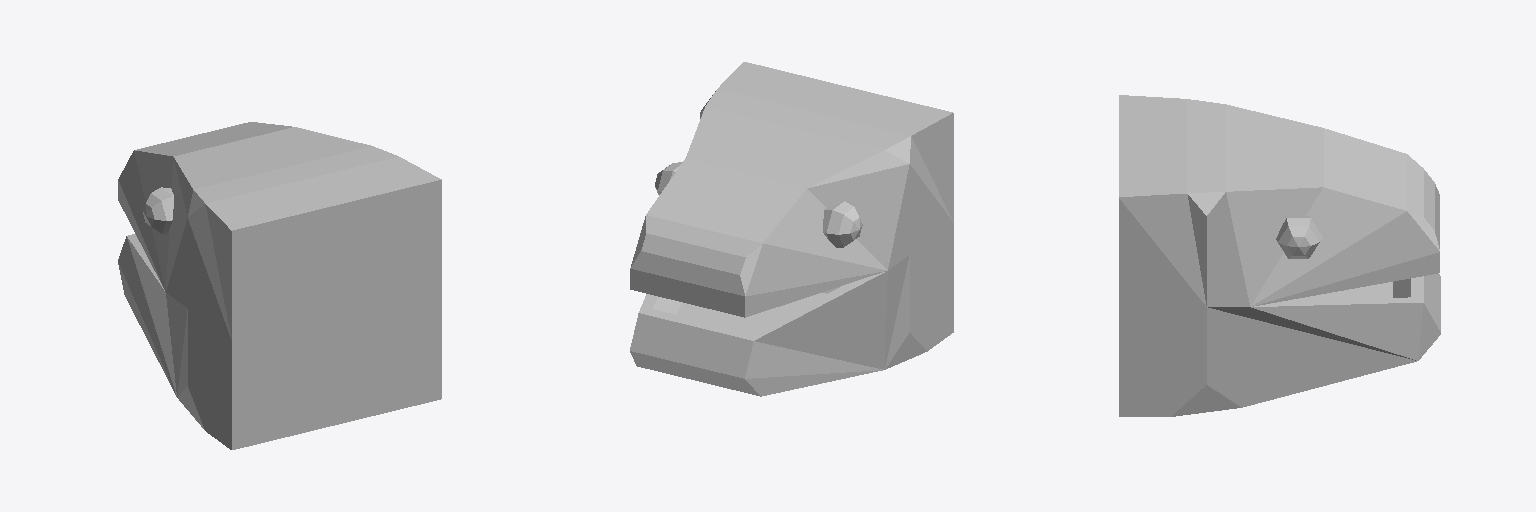
Rendered from snakehead.obj.
3 renders of one model, left to right at view 1: azimuth 30°, elevation 25°; view 2: azimuth 150°, elevation 25°; view 3: azimuth 270°, elevation 25°, orthographic.
Parts seen in each view (by area): view 1: Cube, 球体.001; view 2: Cube, 球体.001; view 3: Cube, 球体.001.
Part boxes in pixels (x1,y1,x2,y2): Cube: (118, 122, 441, 449); 球体.001: (143, 187, 173, 233); Cube: (630, 62, 953, 396); 球体.001: (655, 162, 862, 247); Cube: (1119, 95, 1440, 416); 球体.001: (1276, 216, 1322, 258).
Bounding box in the file's own units: 2 × 2 × 2.66.